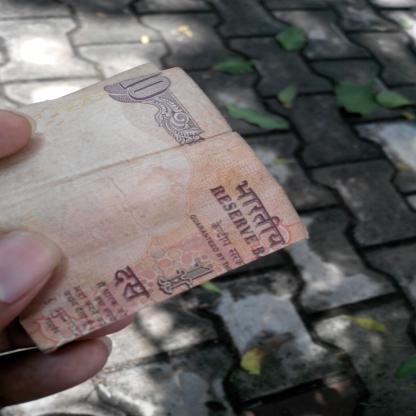Old10Front: (0, 61, 311, 353)
